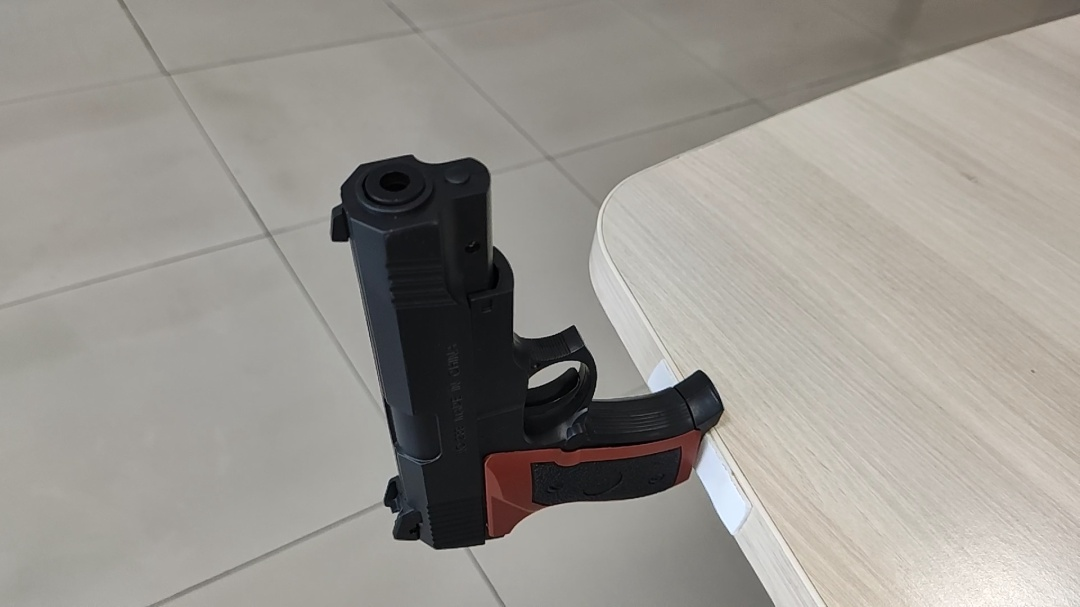gun: (327, 153, 725, 550)
